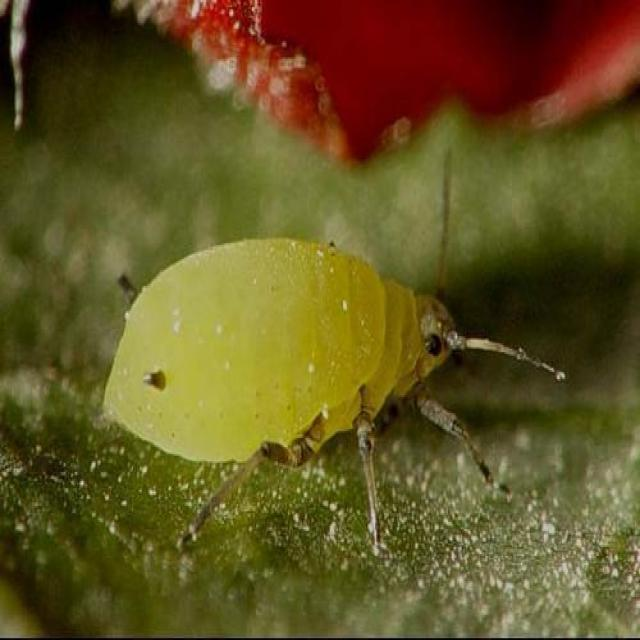Aphids: (69, 229, 563, 538)
